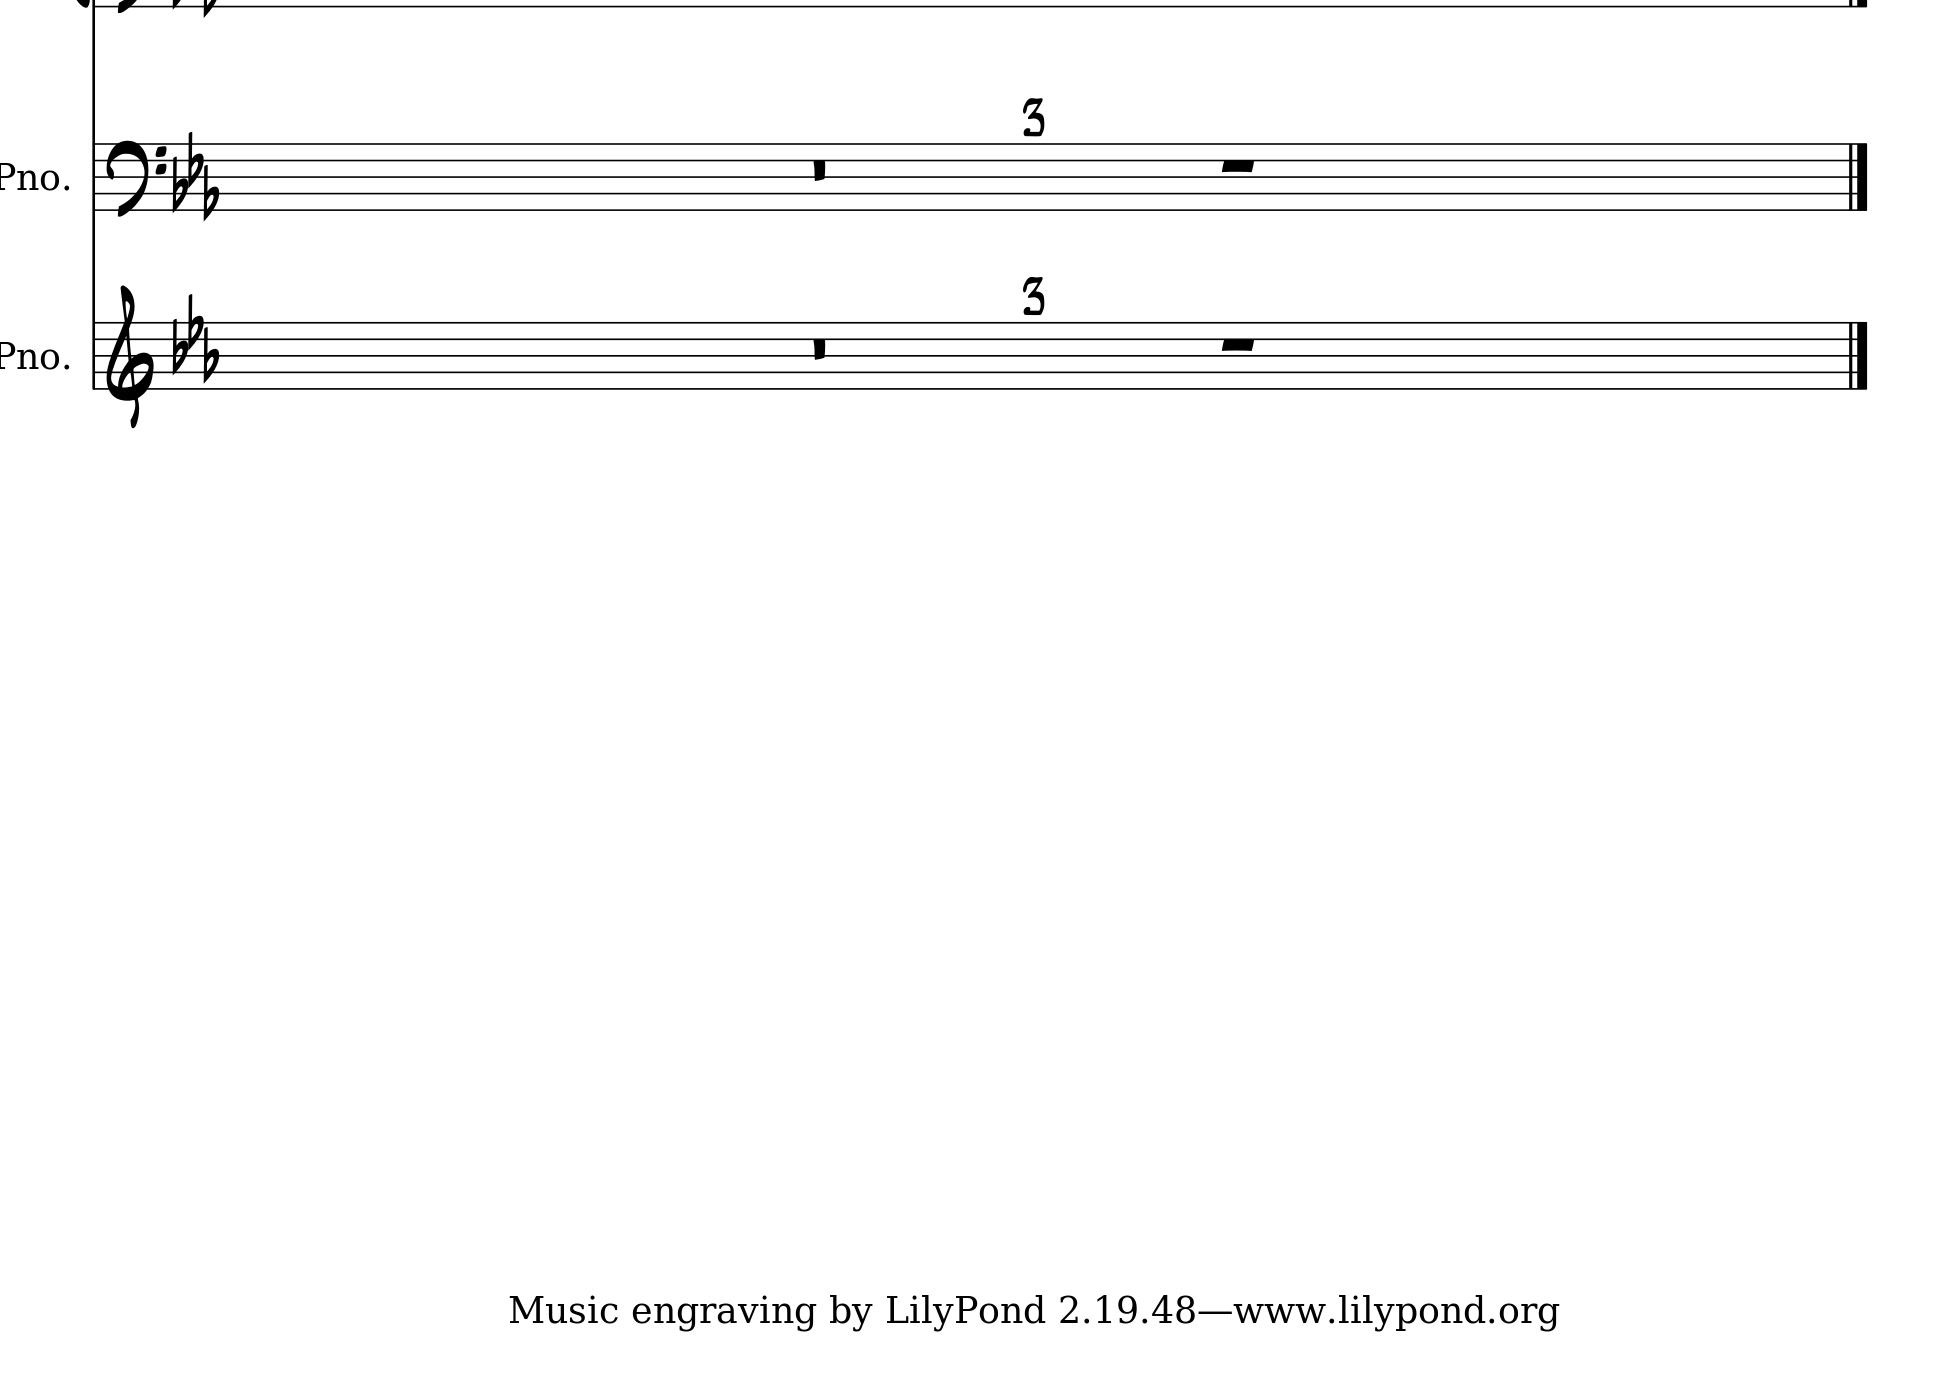3: (1020, 273, 1050, 318), (1021, 94, 1050, 136)
A_F: (169, 291, 220, 384)
E_F: (169, 129, 220, 219)
Fclef: (105, 138, 168, 220)
Final_barline: (1845, 142, 1872, 211), (1843, 319, 1870, 388)
Gclef: (103, 283, 156, 429)
Pno: (1, 159, 60, 193), (1, 340, 60, 370)
Rests1: (1216, 333, 1260, 355), (1216, 154, 1260, 175)
Single_barline: (85, 142, 100, 210), (87, 321, 100, 388)
